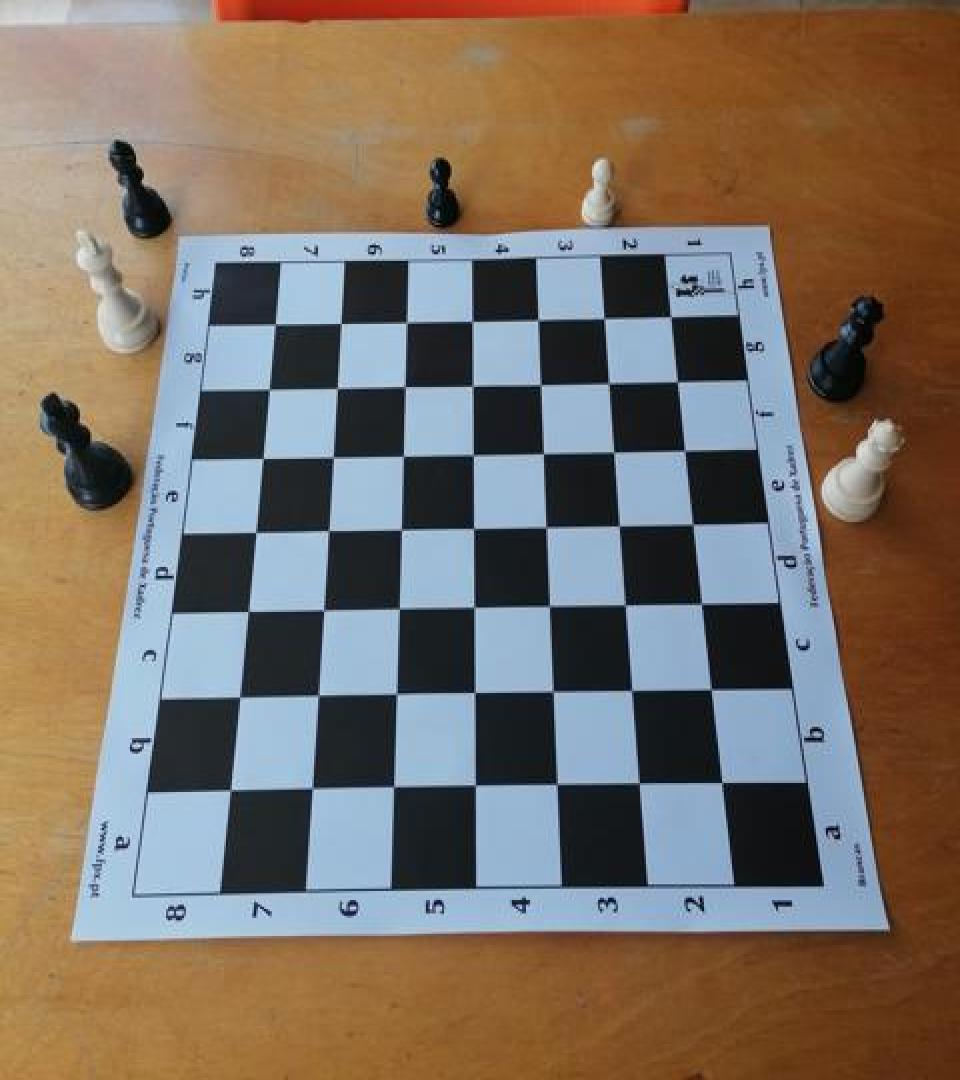xcorner: (218, 775, 246, 807), (299, 774, 327, 806), (545, 769, 573, 801), (627, 768, 655, 800), (709, 767, 737, 799), (384, 679, 412, 711), (462, 677, 490, 709), (541, 676, 569, 708), (620, 675, 648, 707), (235, 595, 263, 627), (310, 594, 338, 626), (538, 589, 566, 621), (614, 588, 642, 620), (690, 587, 718, 619), (243, 515, 271, 547), (315, 513, 343, 545), (608, 508, 636, 540), (681, 507, 709, 539), (461, 436, 489, 468), (531, 434, 559, 466), (602, 433, 630, 465), (673, 432, 701, 464), (256, 370, 284, 402), (324, 369, 352, 401), (528, 364, 556, 396), (597, 363, 625, 395), (665, 362, 693, 394), (460, 301, 488, 333), (526, 299, 554, 331), (592, 298, 620, 330), (658, 297, 686, 329), (381, 773, 409, 804), (463, 771, 491, 802), (227, 682, 255, 713), (305, 681, 333, 712), (699, 674, 727, 705), (386, 593, 414, 624), (462, 592, 490, 623), (388, 512, 416, 543), (461, 511, 489, 542), (534, 510, 562, 541), (250, 440, 278, 471), (320, 439, 348, 470), (390, 438, 418, 469), (392, 368, 420, 399), (460, 367, 488, 398), (262, 305, 290, 336), (328, 304, 356, 335), (394, 303, 422, 334)
